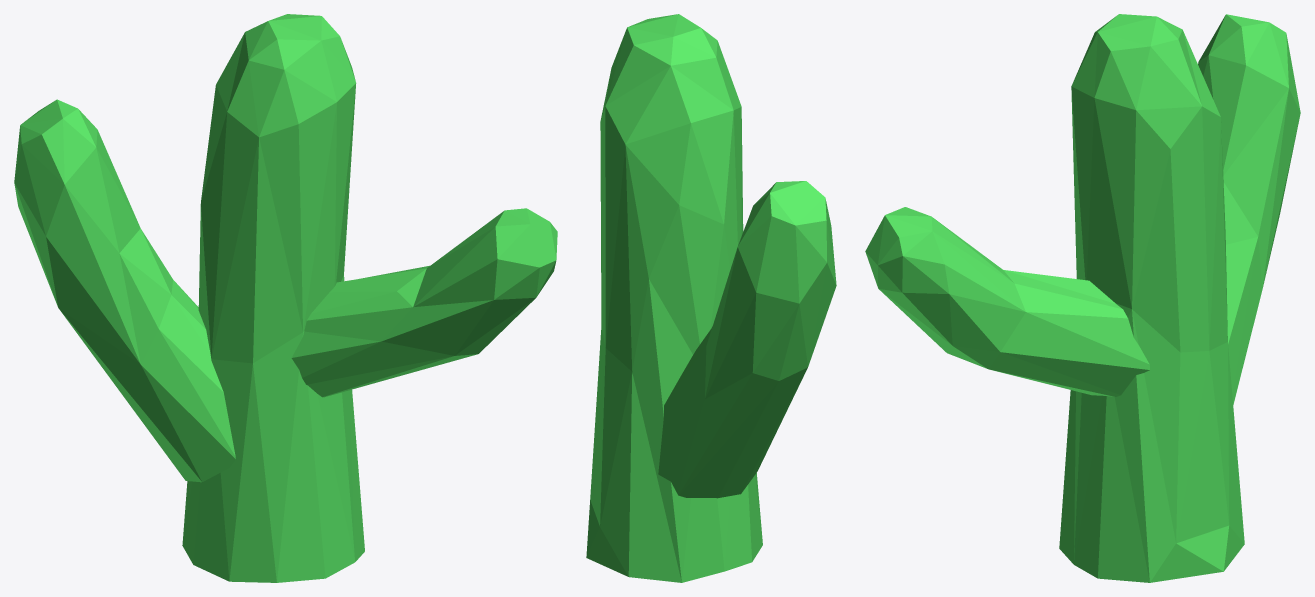
The model's file is cactus3.fbx.
3 views of the same model, side by side, from view 1: azimuth 30°, elevation 25°; view 2: azimuth 150°, elevation 25°; view 3: azimuth 270°, elevation 25° (orthographic). The views are drawn at different scales.
Visible parts, largest first — view 1: cactus3; view 2: cactus3; view 3: cactus3.
Boxes of the visible parts, <box> form: cactus3: <box>14,14,557,582</box>; cactus3: <box>586,14,836,582</box>; cactus3: <box>865,14,1300,582</box>.
Bounding box in the file's own units: 61.02 × 82.99 × 61.92.
